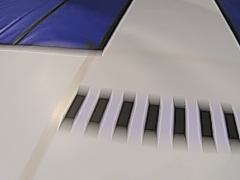CrossWalk: (52, 80, 240, 150)
